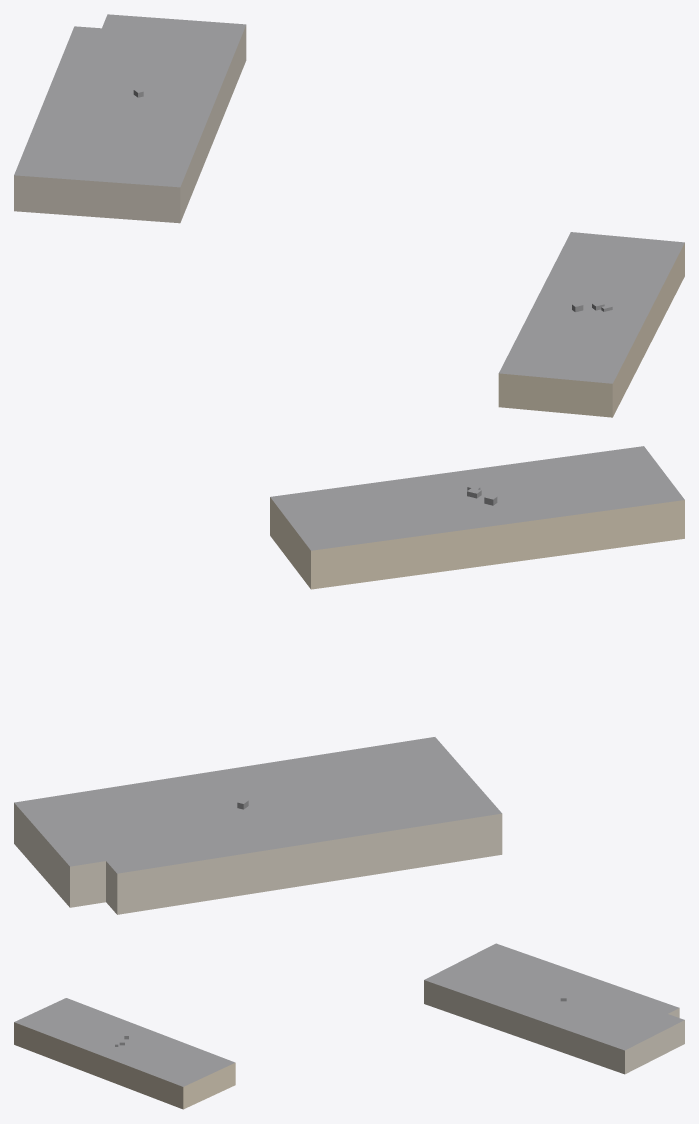
Rendered from building_-6_3.glb.
The picture shows the model from 3 angles, top to bottom: view 1: azimuth 30°, elevation 25°; view 2: azimuth 150°, elevation 25°; view 3: azimuth 270°, elevation 25°; orthographic projection. The views are drawn at different scales.
Parts seen in each view (by area): view 1: roof, concrete_warm, sandstone; view 2: roof, concrete_warm, sandstone; view 3: roof, concrete_warm, sandstone.
Part boxes in pixels (x1,y1,x2,y2): roof: (14, 14, 684, 383); concrete_warm: (14, 25, 246, 223); sandstone: (498, 243, 684, 417); roof: (14, 446, 684, 873); concrete_warm: (14, 803, 502, 914); sandstone: (270, 497, 684, 589); roof: (14, 943, 684, 1086); concrete_warm: (424, 980, 684, 1074); sandstone: (14, 1022, 235, 1109).
Size of the model in its own units: 131 by 11.71 by 262.
